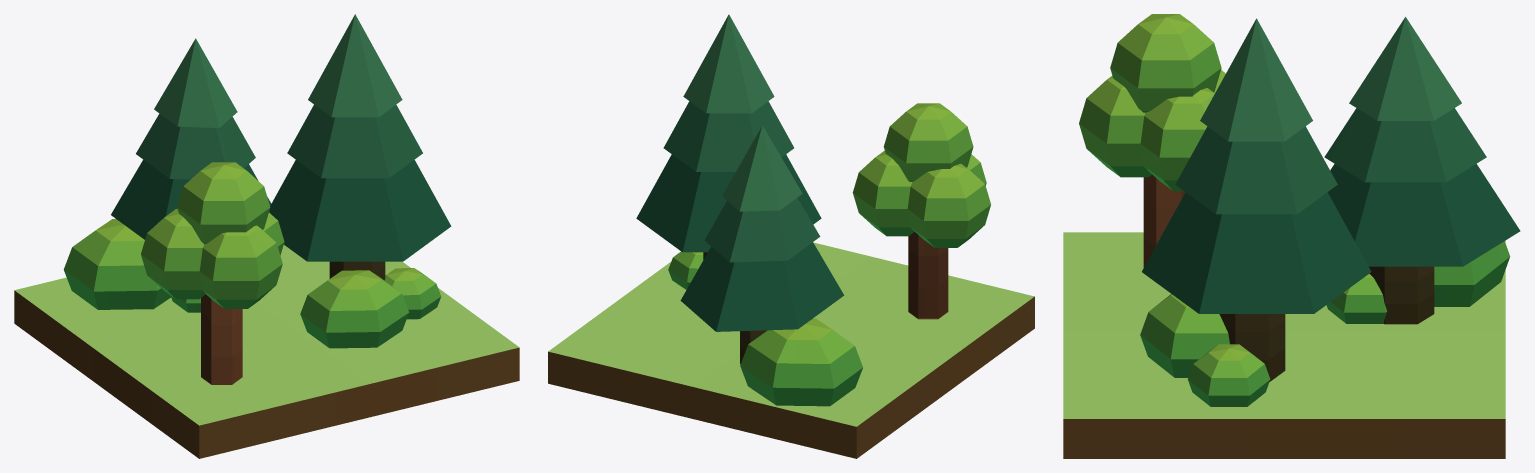
File: compo arbres 2.fbx
The picture shows the model from 3 angles, left to right: view 1: azimuth 30°, elevation 25°; view 2: azimuth 150°, elevation 25°; view 3: azimuth 270°, elevation 25°; orthographic projection. The views are drawn at different scales.
Parts seen in each view (by area): view 1: arbre2.003; view 2: arbre2.003; view 3: arbre2.003.
Boxes of the visible parts, x1,y1,x2,y2 form: arbre2.003: (14,14,519,458); arbre2.003: (548,14,1034,458); arbre2.003: (1063,14,1520,458).
Bounding box in the file's own units: 200 × 207 × 196.
